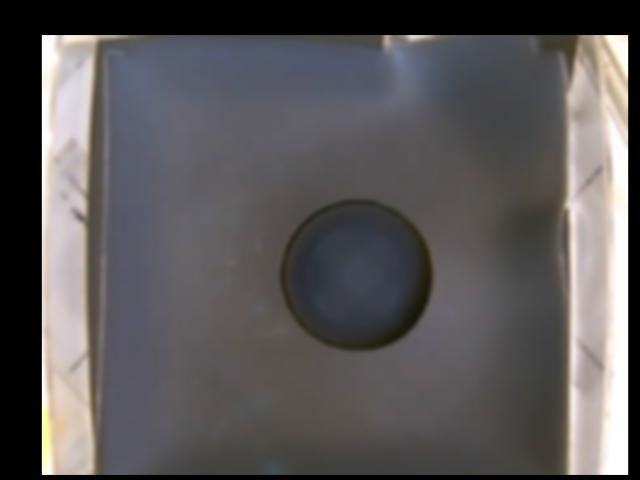Cup: (282, 198, 432, 350)
